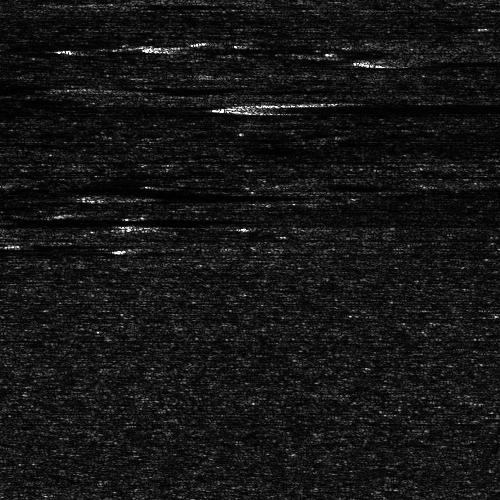rock: (104, 38, 239, 55), (184, 99, 299, 114), (38, 83, 153, 92), (54, 191, 147, 200), (336, 58, 429, 65), (0, 213, 49, 226), (65, 0, 148, 6), (112, 249, 143, 252), (0, 242, 29, 245)
shadow: (242, 99, 500, 114), (172, 38, 374, 55), (0, 213, 234, 226), (101, 191, 238, 200), (383, 58, 500, 65), (96, 83, 164, 92), (107, 0, 173, 6), (128, 249, 202, 252), (9, 242, 80, 245)
